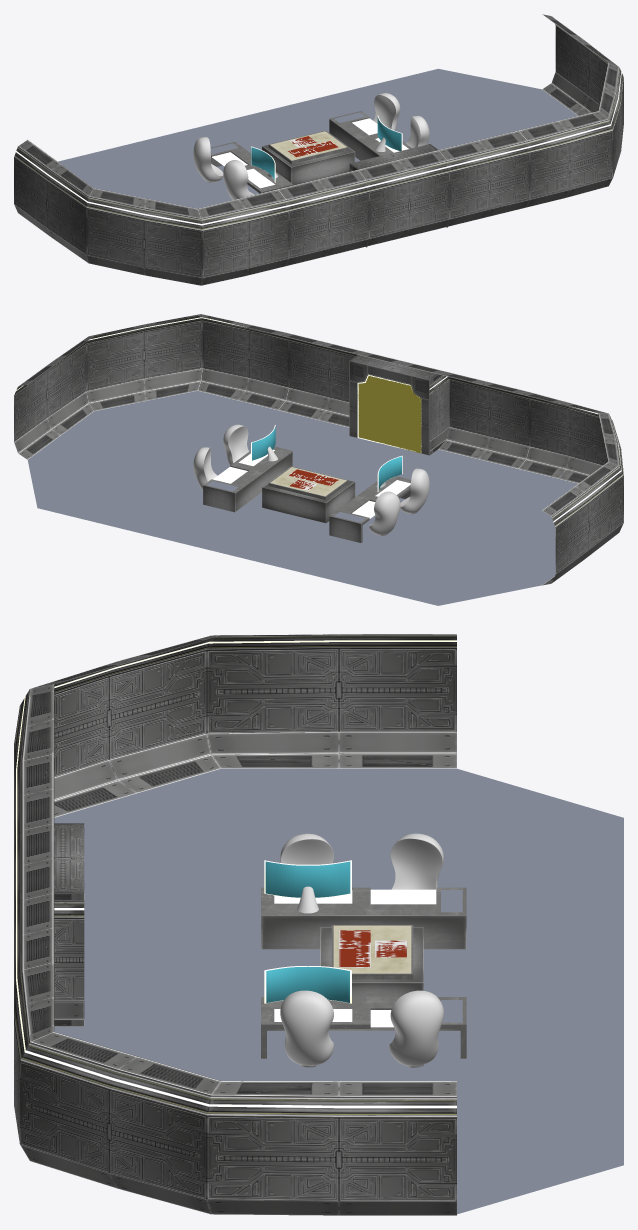
Rendered from NewRoom1.fbx.
3 views of the same model, one above another, from view 1: azimuth 30°, elevation 25°; view 2: azimuth 150°, elevation 25°; view 3: azimuth 270°, elevation 25° (orthographic). The views are drawn at different scales.
Parts seen in each view (by area): view 1: Parede.015, Plane.001, Mesa.010, MesaQuadrada, Cadeira.009, Cadeira.008, Monitor.011, Cube.017, Porta.004, Teclado.007, Cube.015; view 2: Plane.001, Parede.015, Mesa.010, Porta.004, PortaHolograma.003, MesaQuadrada, Cadeira.008, Cadeira.009, Monitor.011, Cube.017, Teclado.007; view 3: Plane.001, Parede.015, Mesa.010, Porta.004, Monitor.011, Cadeira.009, Cadeira.008, Cube.017, MesaQuadrada, Teclado.007, Cube.015.
Part boxes in pixels (left/top/right/bottom): Parede.015: left=14, top=14, right=623, bottom=285; Plane.001: left=58, top=68, right=577, bottom=208; Mesa.010: left=210, top=111, right=411, bottom=193; MesaQuadrada: left=262, top=130, right=355, bottom=185; Cadeira.009: left=193, top=93, right=400, bottom=182; Cadeira.008: left=223, top=116, right=429, bottom=199; Monitor.011: left=251, top=115, right=402, bottom=182; Cube.017: left=268, top=130, right=348, bottom=164; Porta.004: left=349, top=144, right=449, bottom=247; Teclado.007: left=212, top=118, right=377, bottom=166; Cube.015: left=288, top=140, right=338, bottom=157; Plane.001: left=27, top=391, right=577, bottom=605; Parede.015: left=14, top=314, right=623, bottom=585; Mesa.010: left=203, top=446, right=410, bottom=542; Porta.004: left=349, top=354, right=449, bottom=455; PortaHolograma.003: left=357, top=374, right=421, bottom=453; MesaQuadrada: left=262, top=466, right=355, bottom=523; Cadeira.008: left=223, top=424, right=429, bottom=514; Cadeira.009: left=193, top=447, right=400, bottom=535; Monitor.011: left=251, top=425, right=402, bottom=491; Cube.017: left=268, top=466, right=348, bottom=499; Teclado.007: left=213, top=466, right=375, bottom=518; Plane.001: left=54, top=768, right=623, bottom=1214; Parede.015: left=14, top=634, right=456, bottom=1215; Mesa.010: left=261, top=887, right=466, bottom=1058; Porta.004: left=54, top=823, right=84, bottom=1026; Monitor.011: left=264, top=860, right=351, bottom=1003; Cadeira.009: left=389, top=833, right=443, bottom=1067; Cadeira.008: left=280, top=833, right=334, bottom=1067; Cube.017: left=331, top=925, right=413, bottom=979; MesaQuadrada: left=320, top=927, right=423, bottom=996; Teclado.007: left=370, top=889, right=436, bottom=1027; Cube.015: left=339, top=930, right=370, bottom=967.
Bounding box in the file's own units: 3816 × 507 × 2096.
